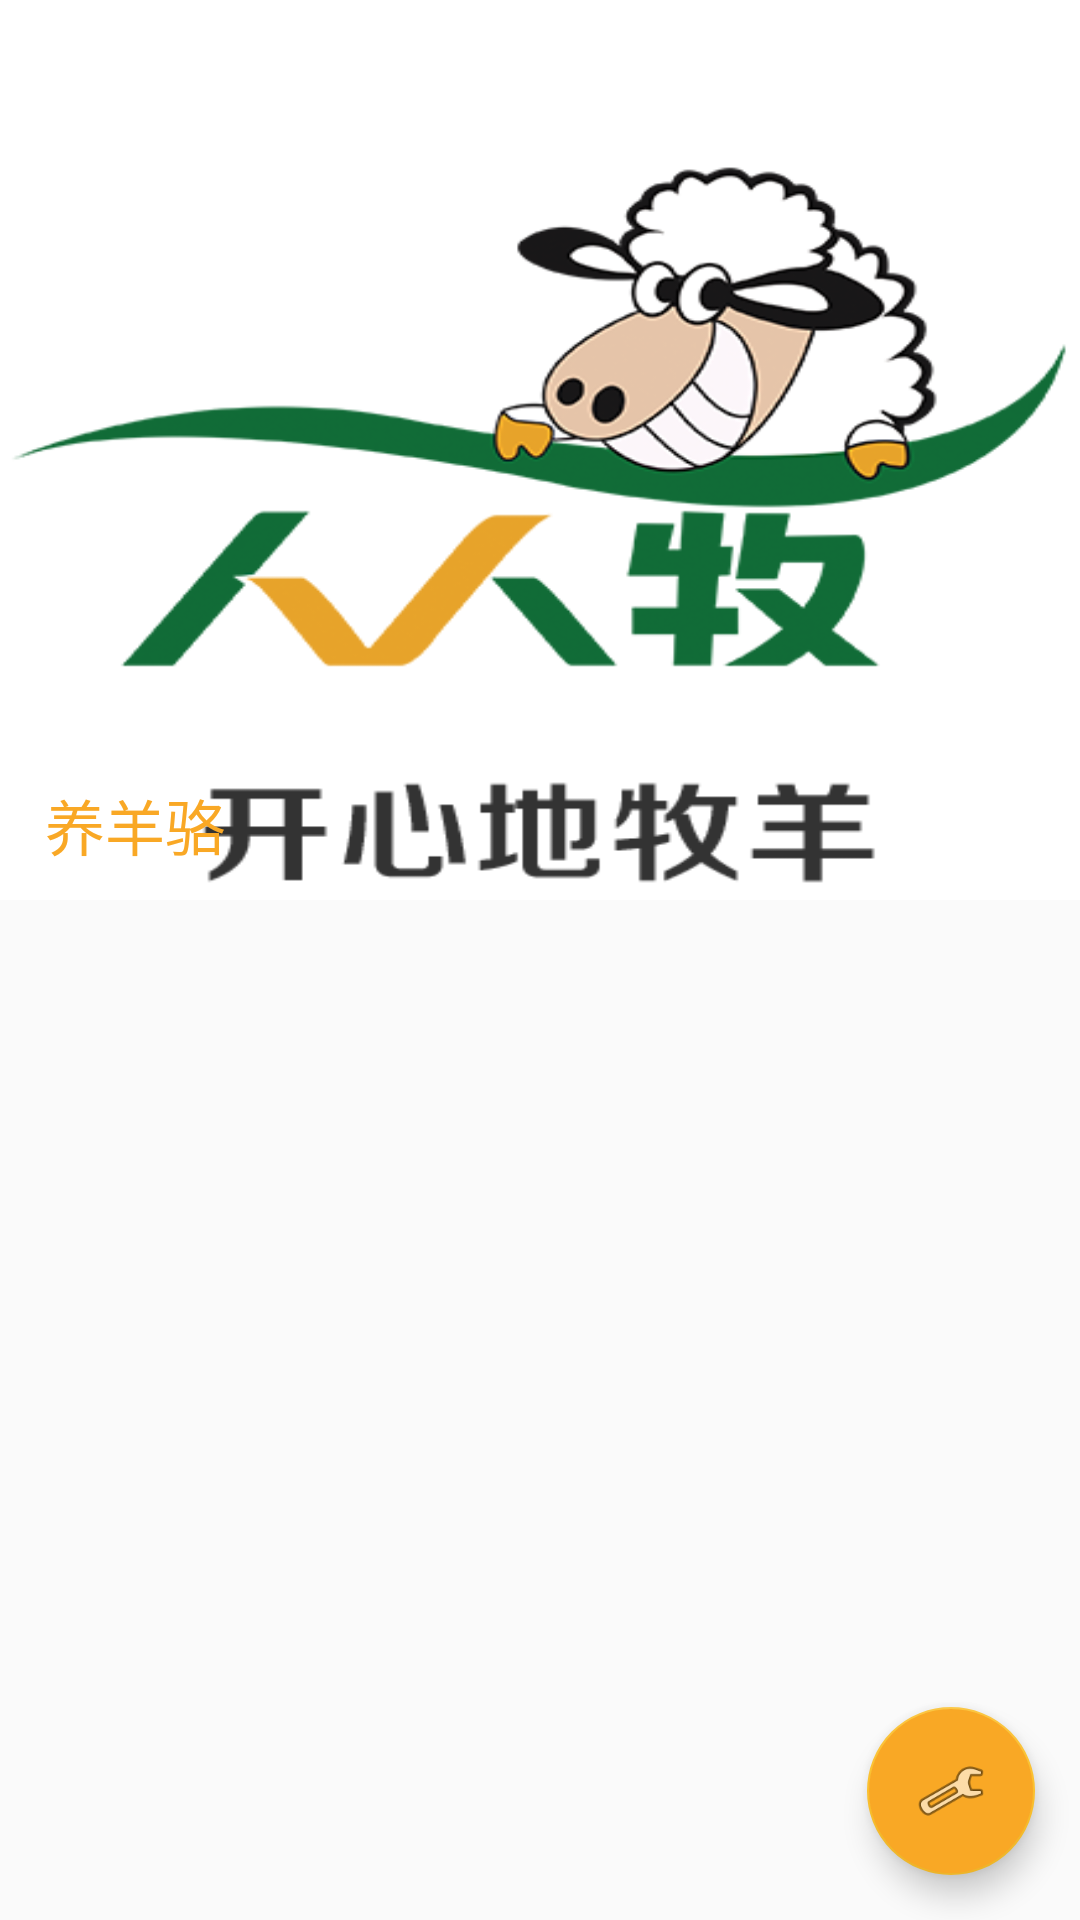

Named icons in this screenshot (1080w x 1920h) and their bounding boxes, (x1, y1, x2, y2):
manage: (867, 1707, 1035, 1875)
